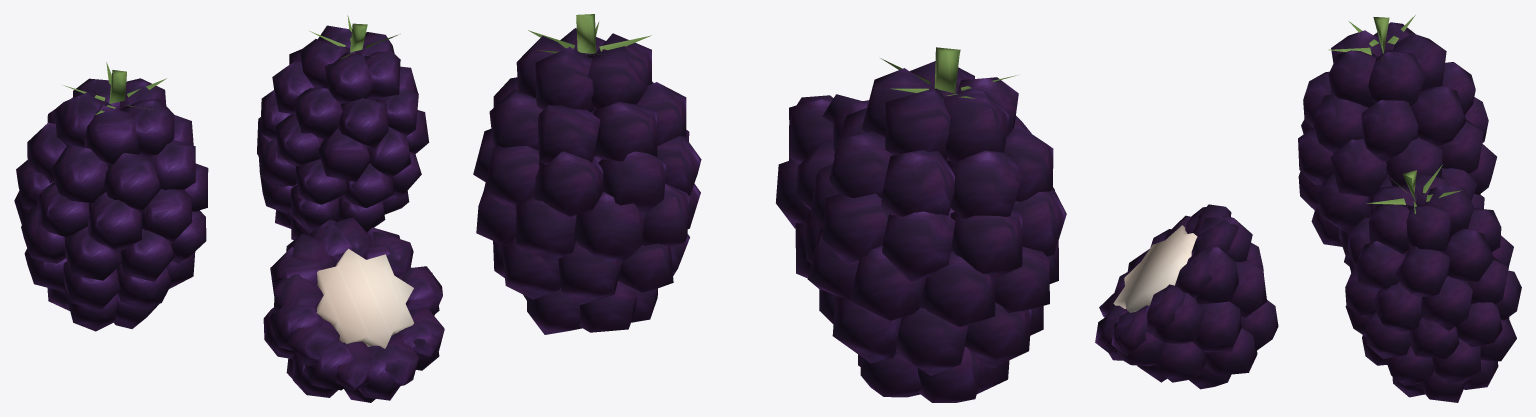
File: NP_Blackberry_Harvest_LOD1.fbx
The picture shows the model from 3 angles, left to right: view 1: azimuth 30°, elevation 25°; view 2: azimuth 150°, elevation 25°; view 3: azimuth 270°, elevation 25°; orthographic projection. The views are drawn at different scales.
Parts seen in each view (by area): view 1: NP_Blackberry_Harvest; view 2: NP_Blackberry_Harvest; view 3: NP_Blackberry_Harvest.
Boxes of the visible parts, left/top/right/bottom form: NP_Blackberry_Harvest: left=14, top=15, right=444, bottom=402; NP_Blackberry_Harvest: left=473, top=14, right=1066, bottom=402; NP_Blackberry_Harvest: left=1095, top=15, right=1521, bottom=402.
Size of the model in its own units: 45.76 by 31.73 by 41.27.
